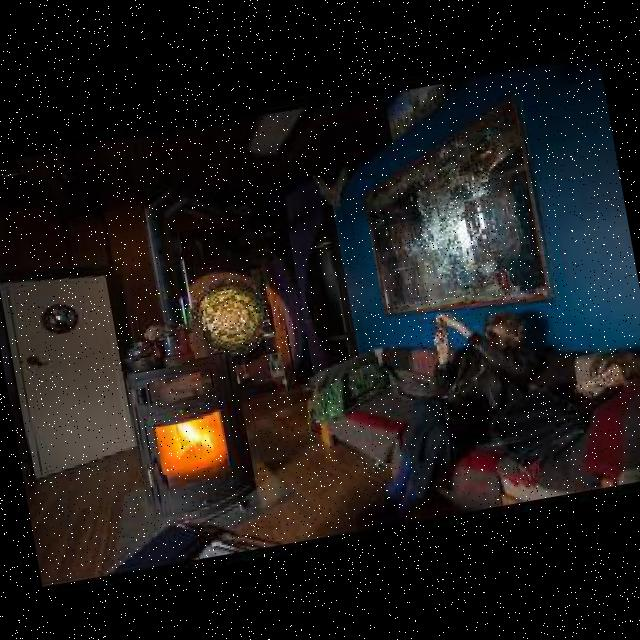fire: (151, 416, 225, 476)
